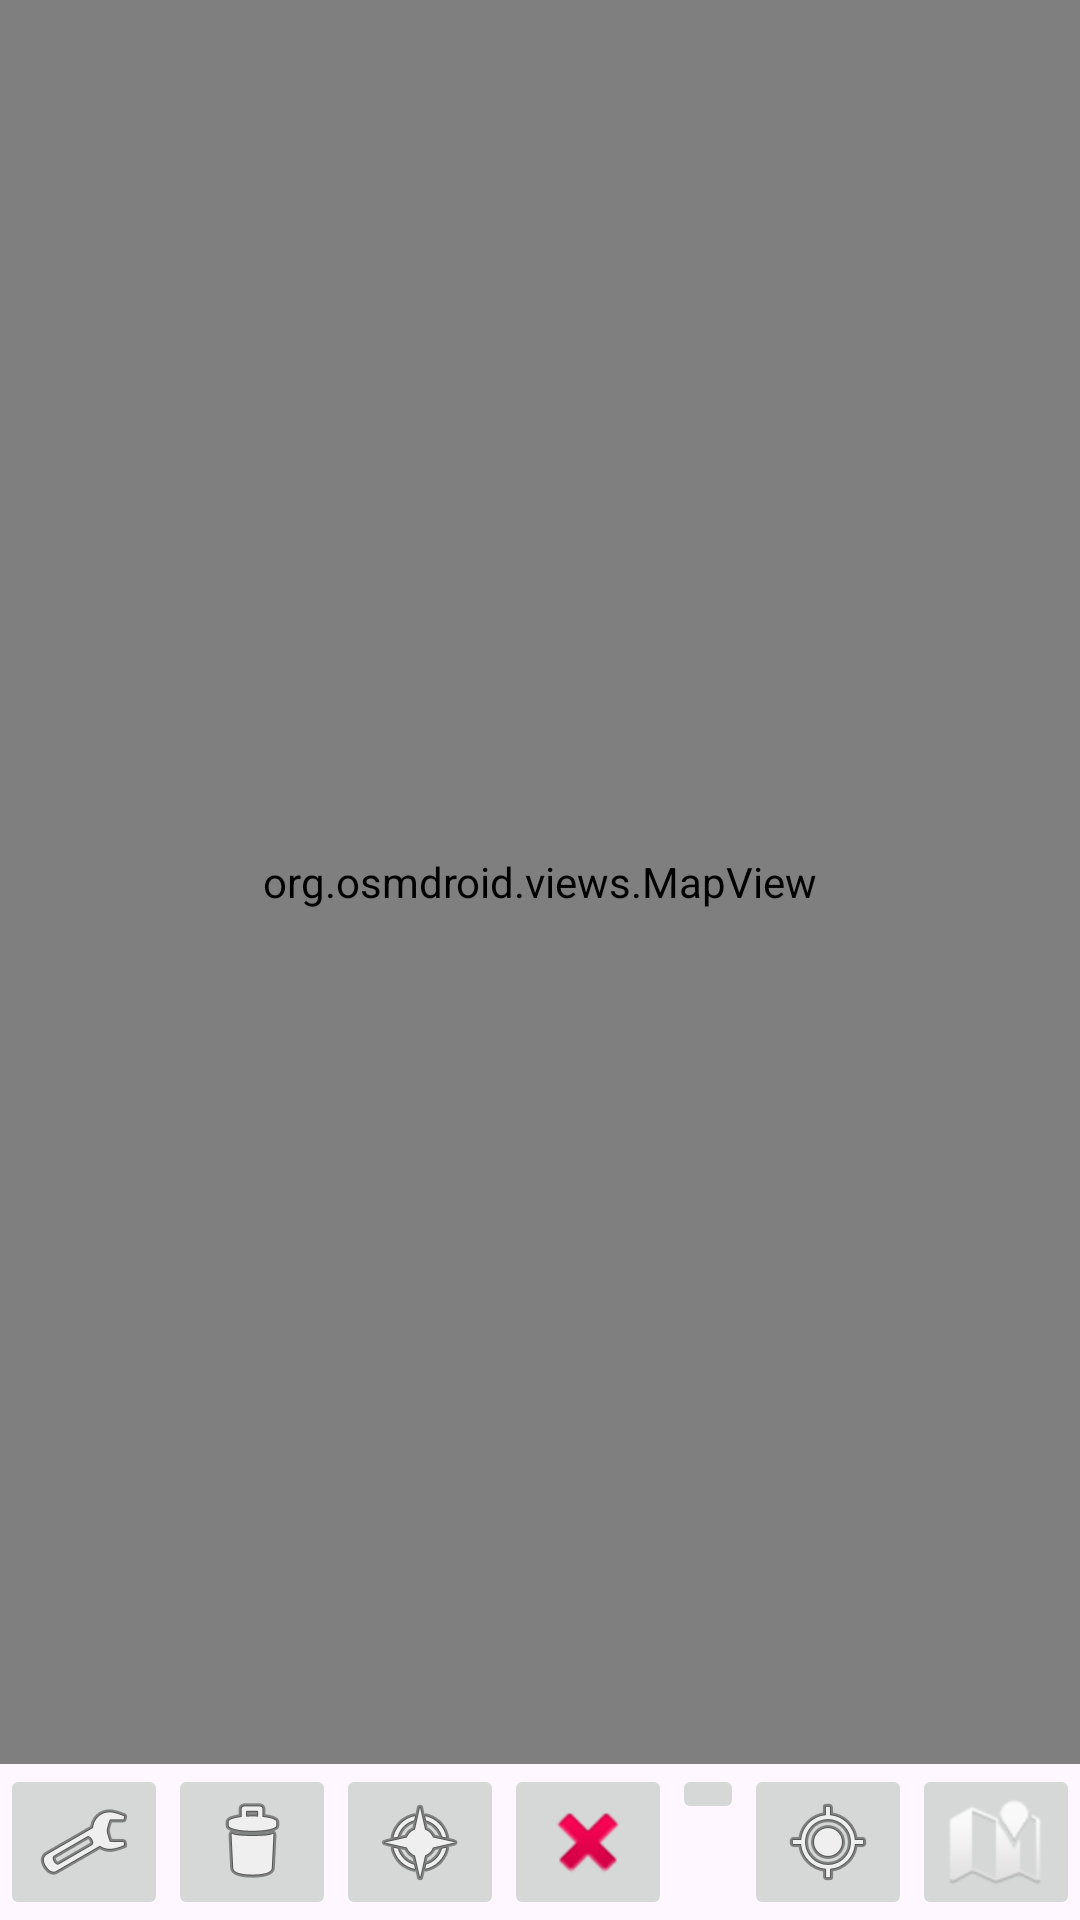

Icon click points for this 1080x1920 phone screenshot, format [x,y]:
compass: [420,1842]
delete: [252,1842], [588,1842]
map: [996,1842]
mylocation: [828,1842]
preferences: [84,1842]
